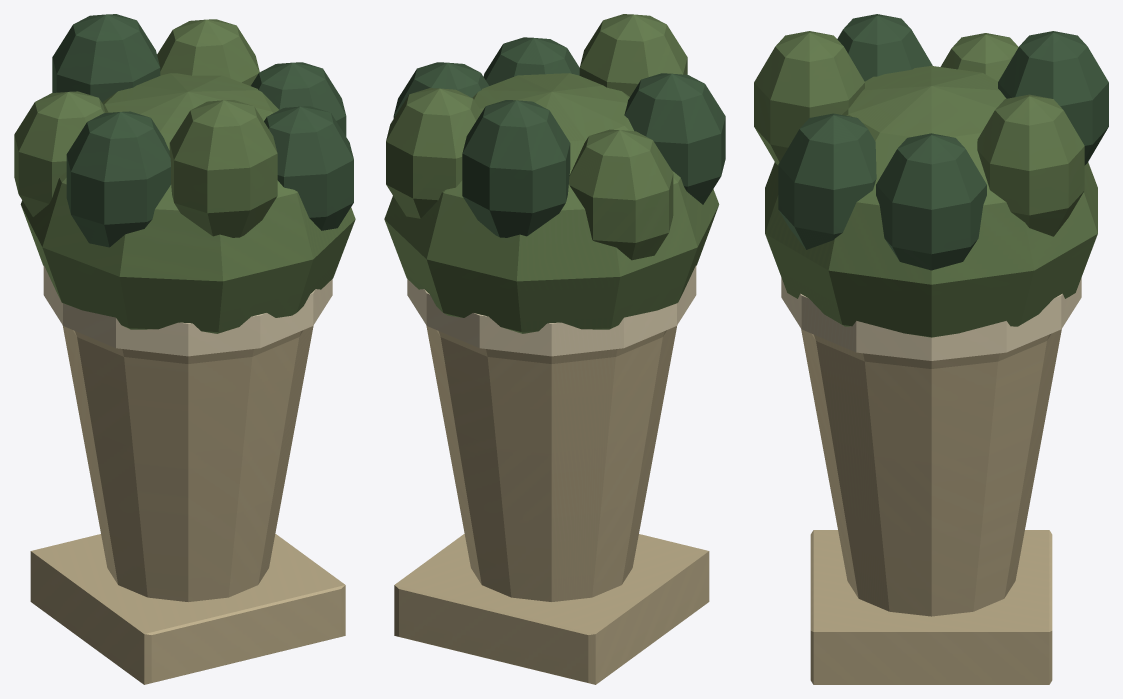
The model's file is SM_WC_Planter.fbx.
3 renders of one model, left to right at view 1: azimuth 30°, elevation 25°; view 2: azimuth 150°, elevation 25°; view 3: azimuth 270°, elevation 25°, orthographic. The views are drawn at different scales.
Visible parts, largest first — view 1: SM_WC_Planter; view 2: SM_WC_Planter; view 3: SM_WC_Planter.
Boxes of the visible parts, bbox=[...] form: SM_WC_Planter: bbox=[14, 14, 355, 684]; SM_WC_Planter: bbox=[384, 14, 725, 684]; SM_WC_Planter: bbox=[754, 14, 1108, 684].
Bounding box in the file's own units: 0.8627 × 0.8513 × 1.56.
